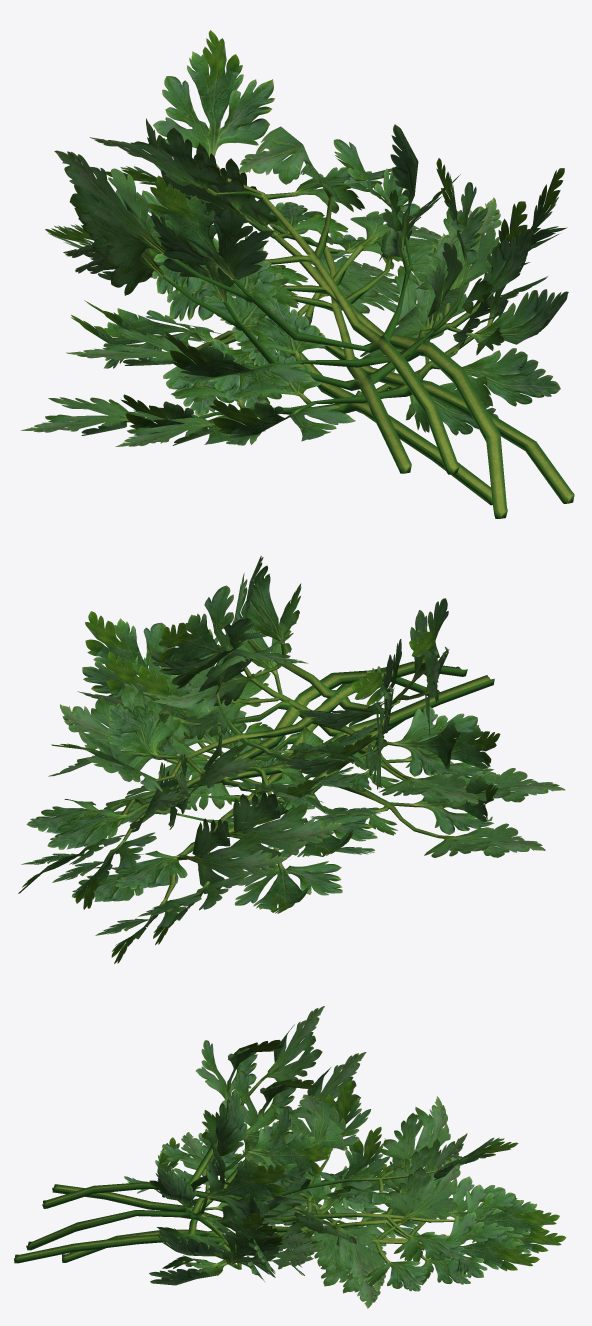
Rendered from parsley_plant.glb.
3 renders of one model, top to bottom at view 1: azimuth 30°, elevation 25°; view 2: azimuth 150°, elevation 25°; view 3: azimuth 270°, elevation 25°, orthographic. The views are drawn at different scales.
Visible parts, largest first — view 1: Parsley_06, Parsley_05, Parsley_03, Parsley_04, Parsley_01; view 2: Parsley_06, Parsley_04, Parsley_05, Parsley_01, Parsley_03; view 3: Parsley_06, Parsley_04, Parsley_05, Parsley_03, Parsley_01.
Boxes of the visible parts, left/top/right/bottom form: Parsley_06: left=54, top=30, right=459, bottom=474; Parsley_05: left=66, top=118, right=568, bottom=518; Parsley_03: left=45, top=201, right=574, bottom=503; Parsley_04: left=65, top=158, right=533, bottom=473; Parsley_01: left=21, top=216, right=517, bottom=505; Parsley_06: left=52, top=556, right=467, bottom=804; Parsley_04: left=18, top=573, right=494, bottom=893; Parsley_05: left=47, top=611, right=478, bottom=909; Parsley_01: left=72, top=665, right=545, bottom=963; Parsley_03: left=95, top=652, right=564, bottom=944; Parsley_06: left=42, top=1006, right=518, bottom=1217; Parsley_04: left=52, top=1052, right=539, bottom=1291; Parsley_05: left=26, top=1120, right=559, bottom=1285; Parsley_03: left=14, top=1132, right=543, bottom=1292; Parsley_01: left=62, top=1141, right=566, bottom=1308.
Size of the model in its own units: 4.96 by 2.47 by 6.6.
Materials: 1 (1 with a texture image).
